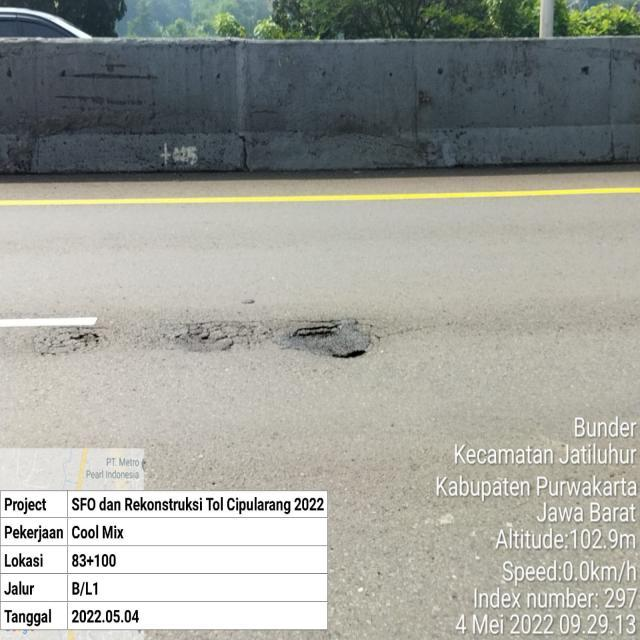Buraco: (160, 317, 278, 355), (29, 322, 115, 360), (289, 321, 345, 342), (324, 346, 371, 361)
